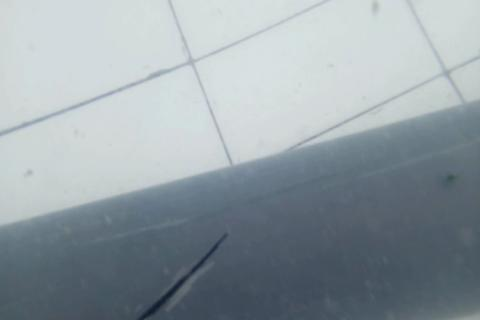keretakan: (136, 231, 227, 320)
